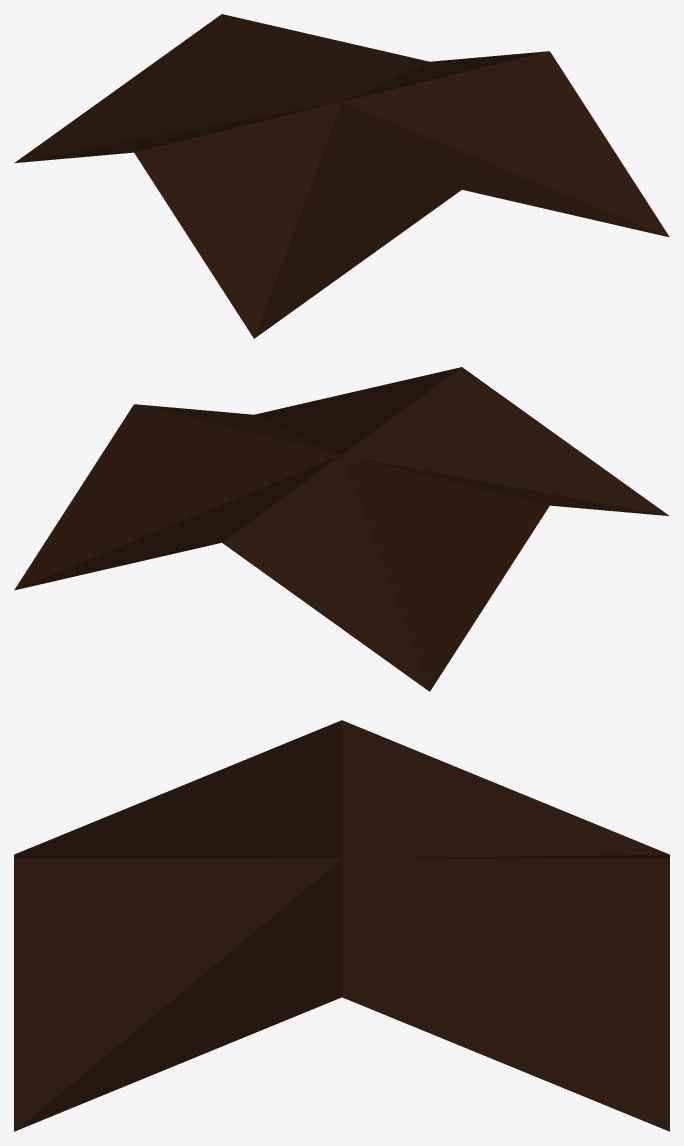
The model's file is Roof_01E.fbx.
The picture shows the model from 3 angles, top to bottom: view 1: azimuth 30°, elevation 25°; view 2: azimuth 150°, elevation 25°; view 3: azimuth 270°, elevation 25°; orthographic projection. The views are drawn at different scales.
Visible parts, largest first — view 1: Roof_01E; view 2: Roof_01E; view 3: Roof_01E.
Part boxes in pixels (x1=…): Roof_01E: x1=14, y1=14, x2=669, y2=338; Roof_01E: x1=14, y1=367, x2=668, y2=691; Roof_01E: x1=14, y1=720, x2=669, y2=1131.
Bounding box in the file's own units: 300 × 67.87 × 300.
